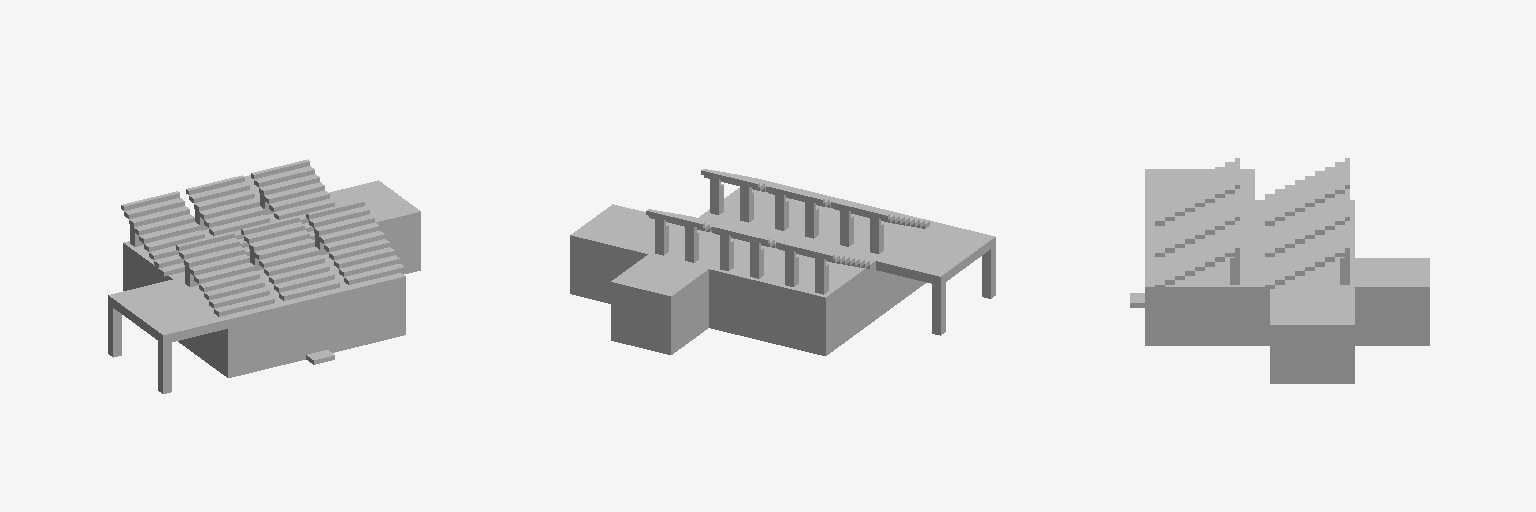
Rendered from House.obj.
3 views of the same model, side by side, from view 1: azimuth 30°, elevation 25°; view 2: azimuth 150°, elevation 25°; view 3: azimuth 270°, elevation 25° (orthographic).
Parts seen in each view (by area): view 1: object 1; view 2: object 1; view 3: object 1.
Part boxes in pixels (x1,y1,x2,y2): object 1: (108, 159, 420, 393); object 1: (570, 169, 995, 355); object 1: (1130, 158, 1429, 383).
Bounding box in the file's own units: 7.4 × 2.2 × 6.